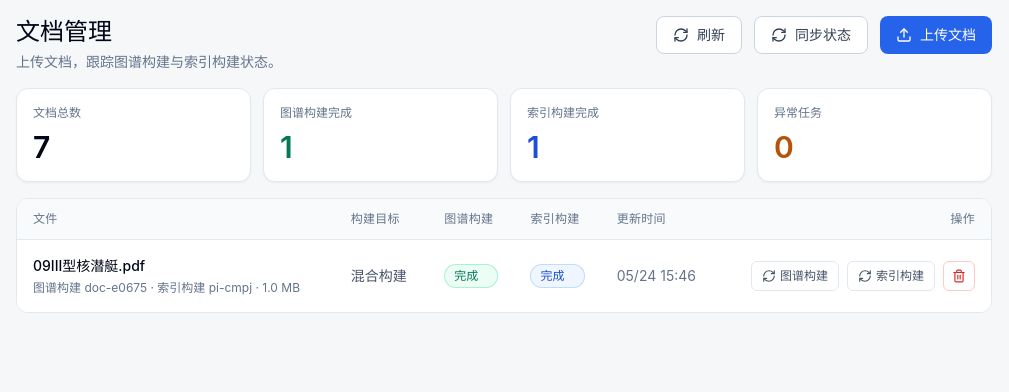
Scenario: DocumentsPage › shows single document sync failures
The width and height of the screenshot is (1009, 392).
Expected: the text "09III型核潜艇.pdf" is shown, [33,257,145,274]
Click the button "索引构建" at (891, 276), box [847,261,935,291]
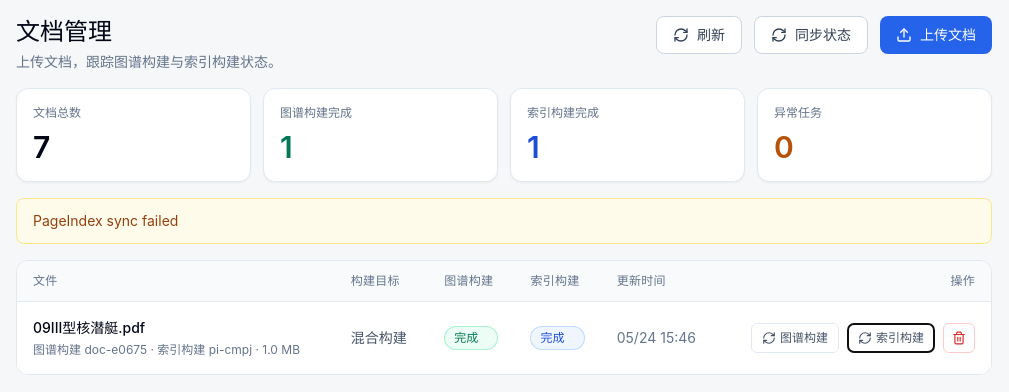
Expected: the text "PageIndex sync failed" is shown, [16,198,992,244]
